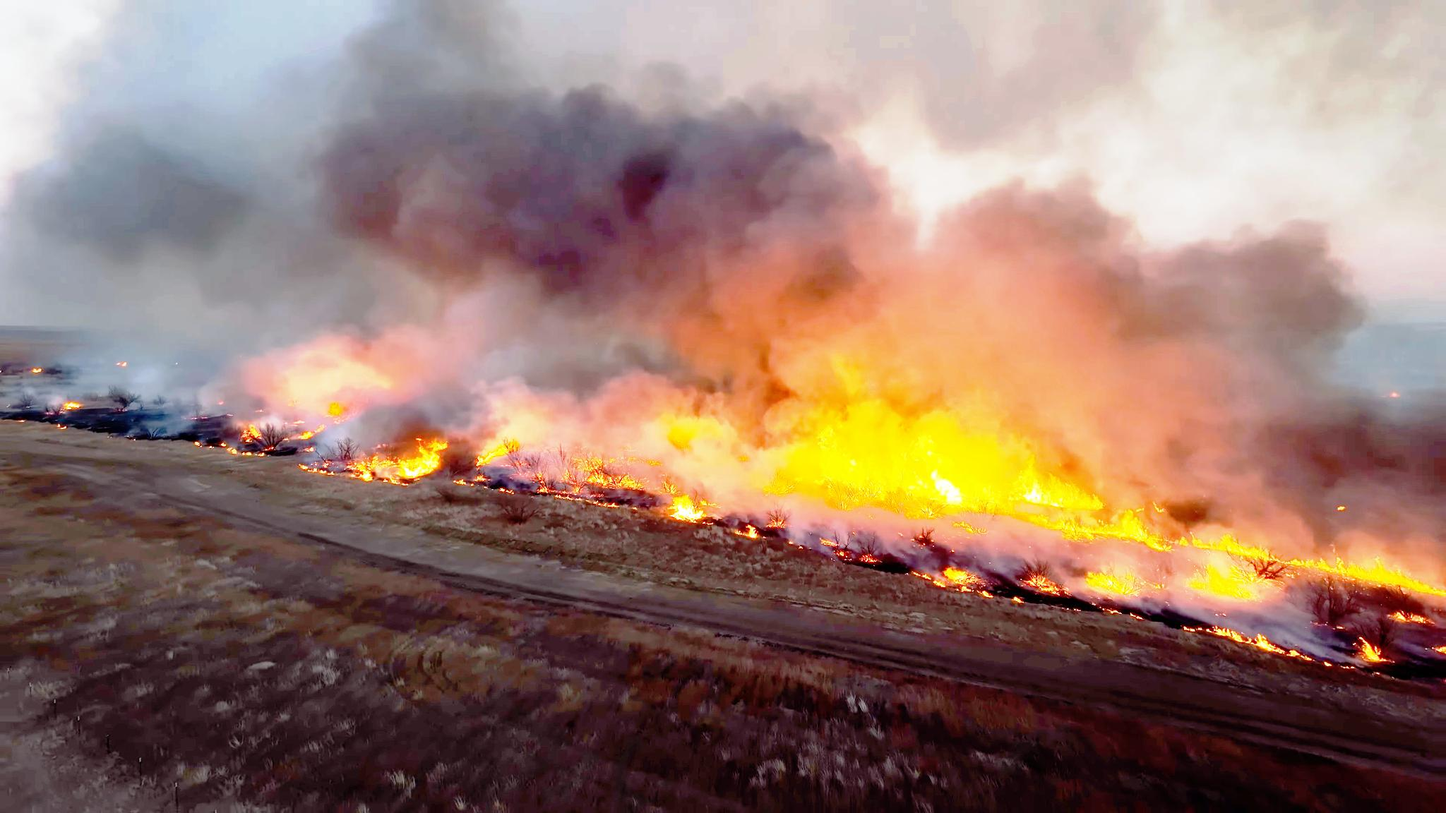fire: (812, 416, 988, 514), (998, 469, 1166, 560), (323, 445, 456, 494)
smoke: (359, 19, 826, 351), (769, 155, 1339, 422)
